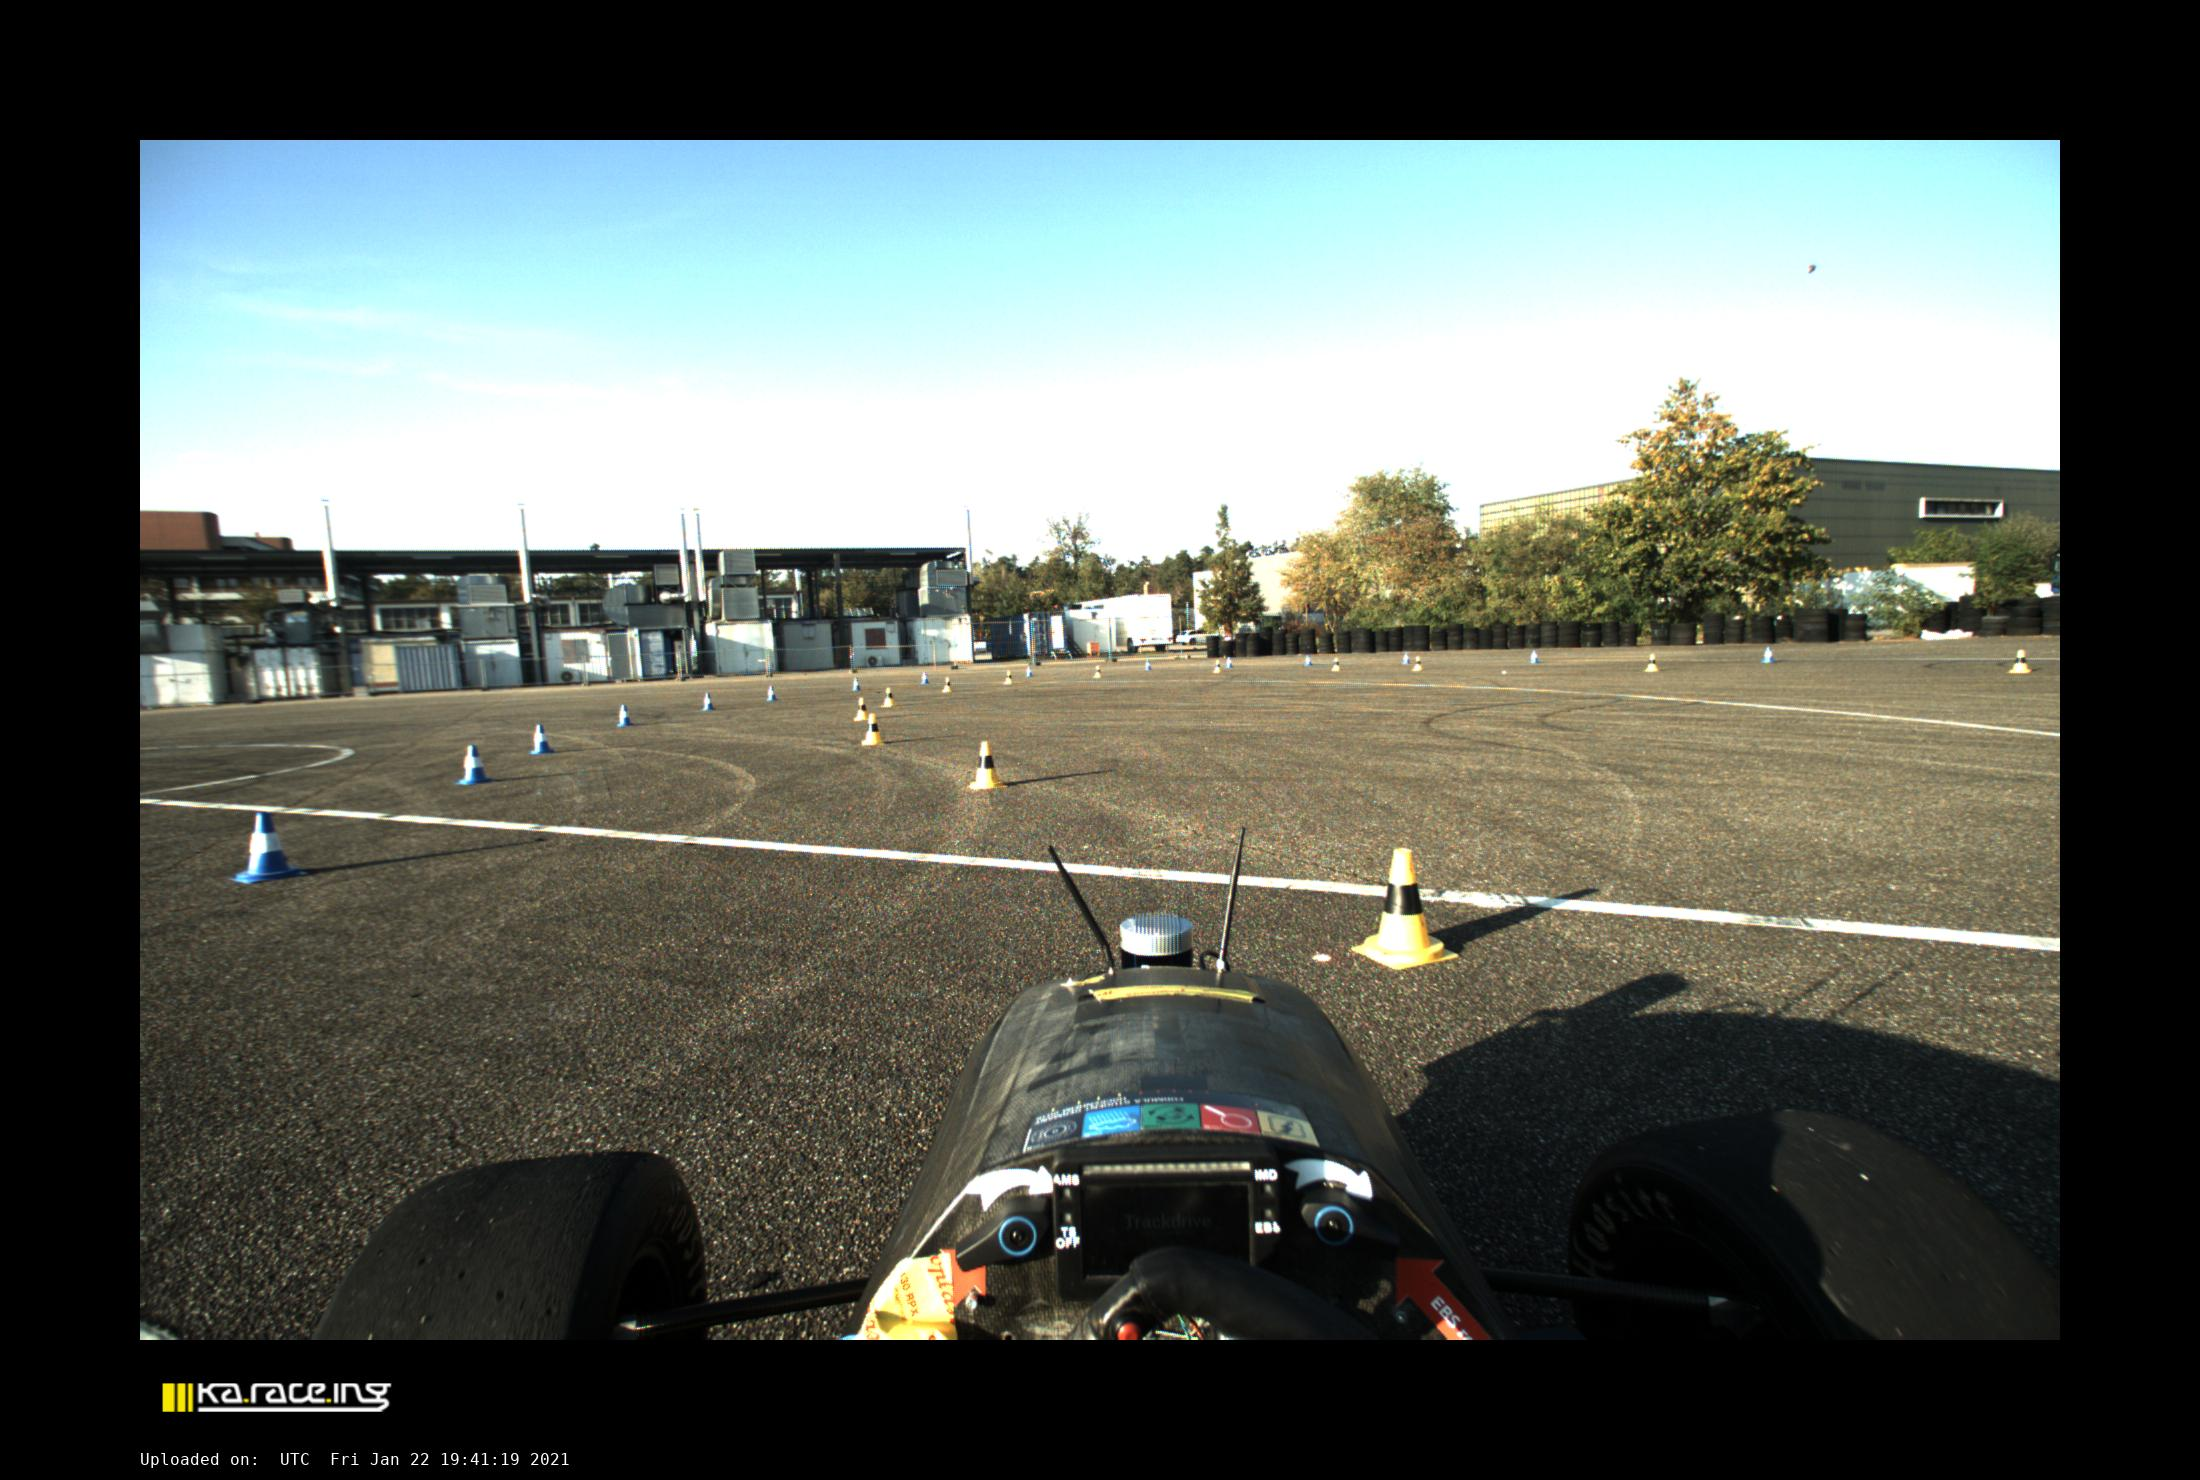blue_cone: (233, 813, 307, 883), (456, 745, 493, 785), (530, 725, 556, 754), (617, 704, 634, 727), (701, 692, 716, 711), (1761, 645, 1774, 663), (766, 686, 777, 701), (1528, 650, 1539, 664), (851, 677, 861, 691), (920, 672, 930, 685), (1401, 652, 1411, 665), (1303, 654, 1312, 667), (1143, 659, 1152, 671), (1225, 656, 1234, 668), (1024, 666, 1033, 677)
yellow_cone: (1350, 849, 1458, 969), (966, 741, 1007, 790), (862, 713, 884, 745), (2006, 649, 2032, 673), (852, 697, 869, 721), (880, 687, 895, 707), (1644, 653, 1659, 672), (1410, 655, 1423, 672), (1001, 670, 1015, 685), (941, 676, 953, 693), (1212, 658, 1223, 674), (1329, 657, 1340, 671), (1092, 665, 1103, 678)
